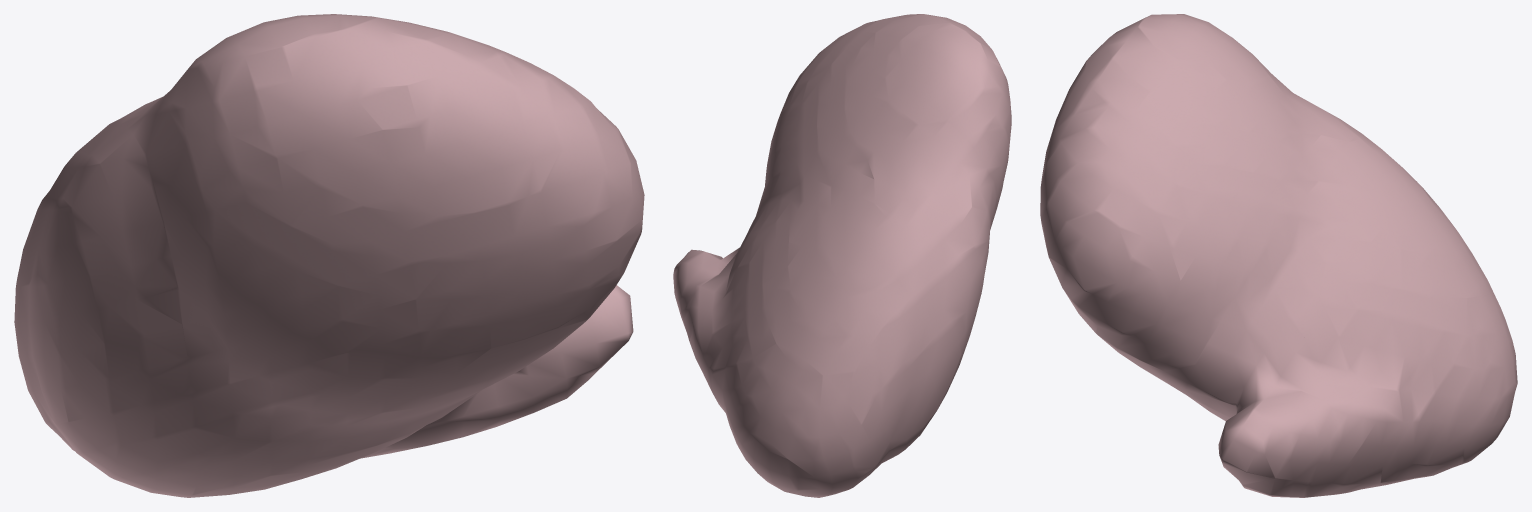
The model's file is brigitte-left.gltf.
3 views of the same model, side by side, from view 1: azimuth 30°, elevation 25°; view 2: azimuth 150°, elevation 25°; view 3: azimuth 270°, elevation 25° (orthographic). The views are drawn at different scales.
Parts seen in each view (by area): view 1: Layer_2; view 2: Layer_2; view 3: Layer_2.
Boxes of the visible parts, left/top/right/bottom form: Layer_2: left=14, top=14, right=644, bottom=497; Layer_2: left=673, top=14, right=1011, bottom=497; Layer_2: left=1040, top=14, right=1517, bottom=497.
Size of the model in its own units: 11.95 by 13.16 by 13.22.
Materials: 1 (1 with a texture image).
